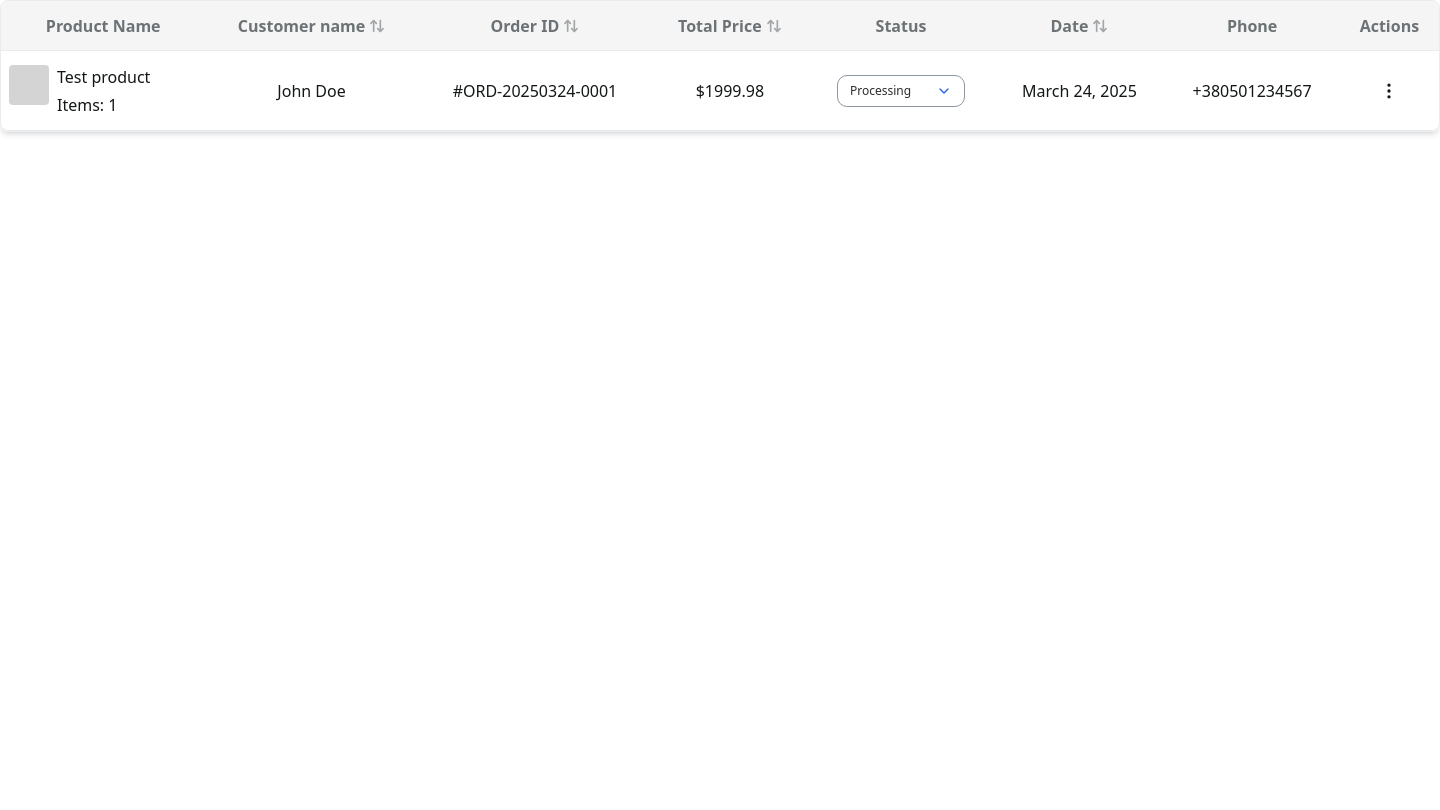
Test case: UI Component: TableOrders › should open delete confirmation modal
Click the button named "Actions for order ORD-20250324-0001". click: click(1389, 90)
box: 1359,70 -> 1420,111
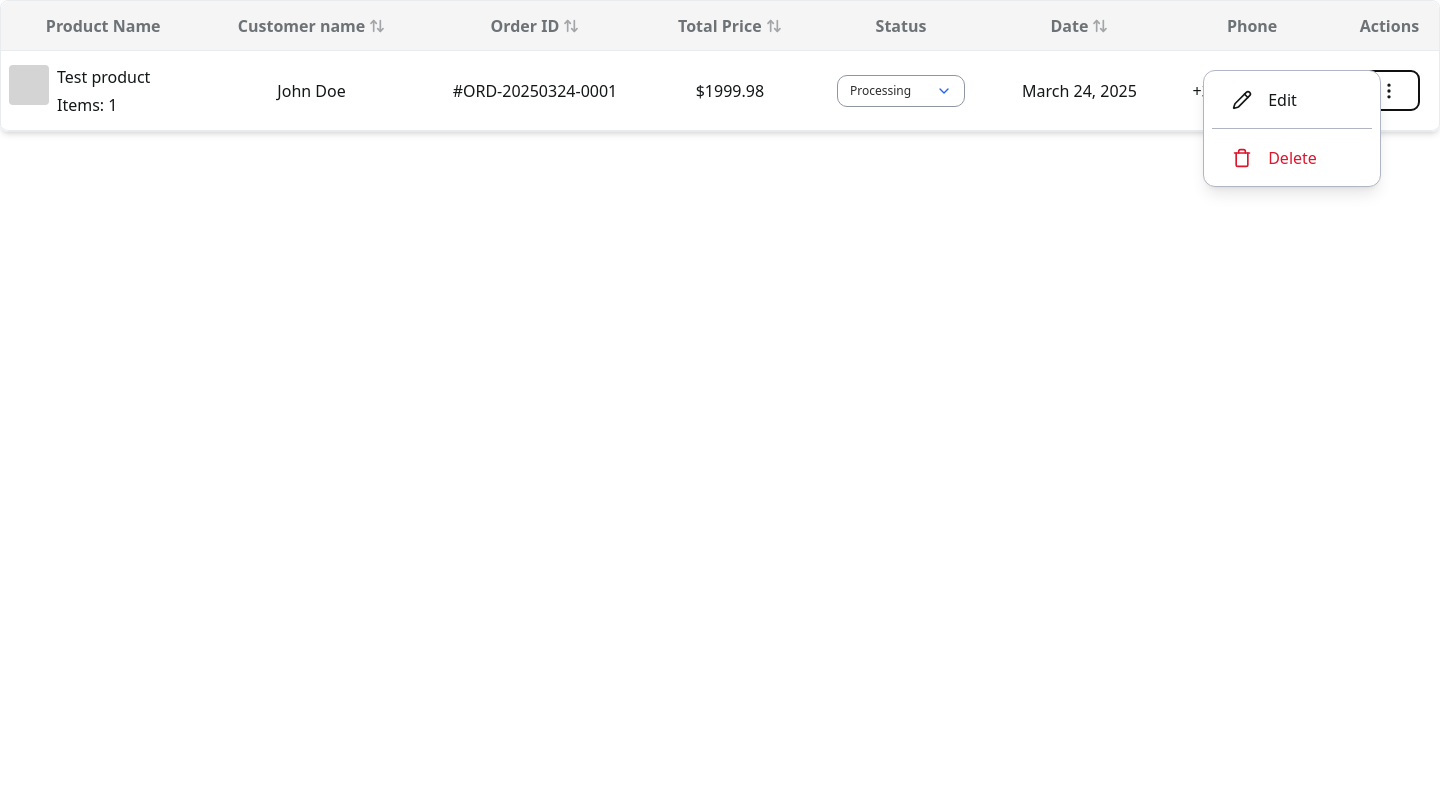
Click the button "Delete". click: click(1274, 158)
box: 1212,137 -> 1337,178
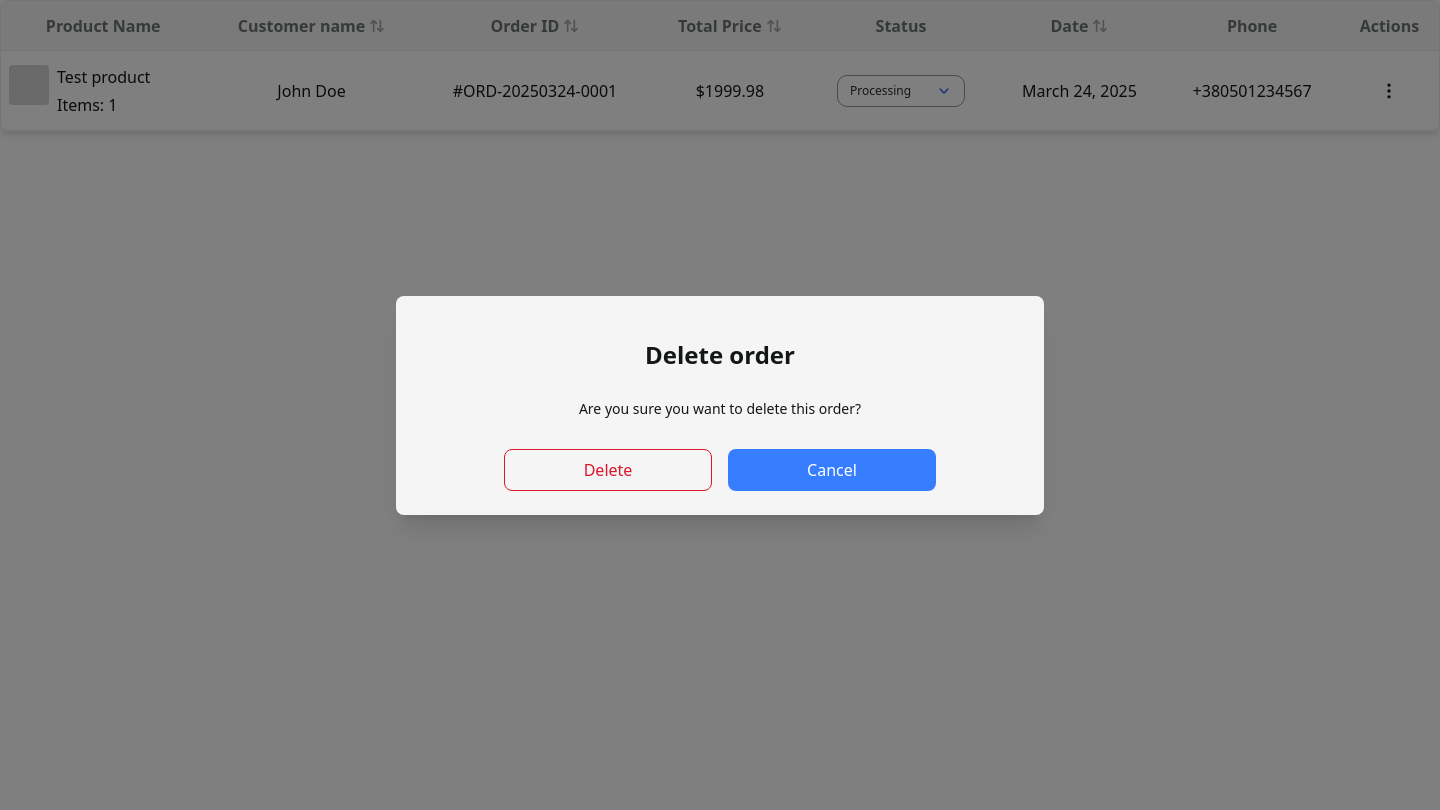
expect the text "Are you sure you want to delete this order?" is shown: met, box 579,399 -> 861,419
